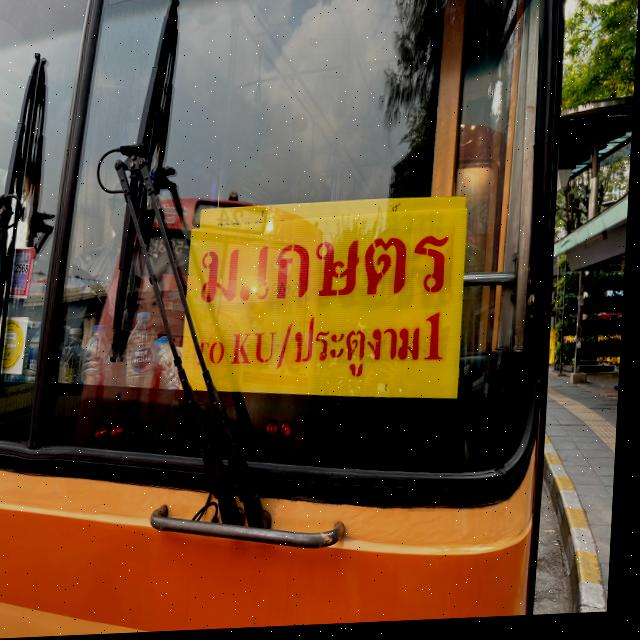BMTA-bus: (0, 0, 573, 640)
Destination Sign: (184, 215, 473, 415)
